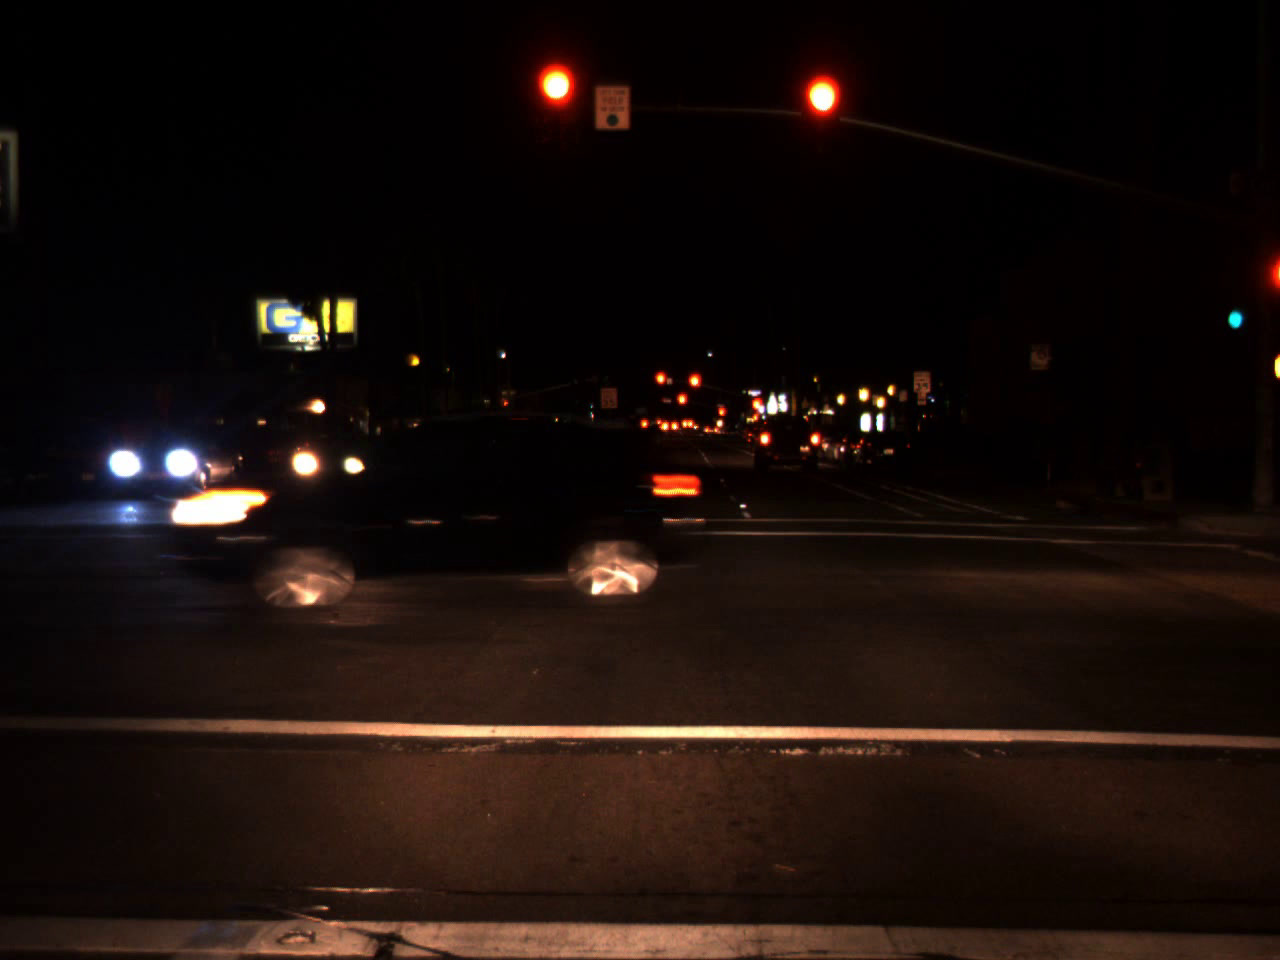stop: (537, 65, 577, 143), (800, 75, 839, 153), (686, 371, 702, 403), (653, 370, 666, 399), (675, 391, 688, 418), (749, 396, 764, 414), (717, 406, 726, 427), (503, 401, 509, 411)
